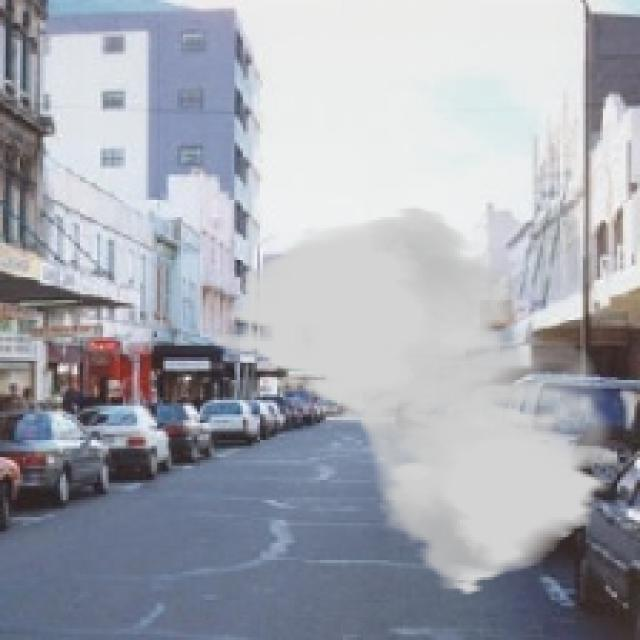smoke: (214, 206, 620, 597)
